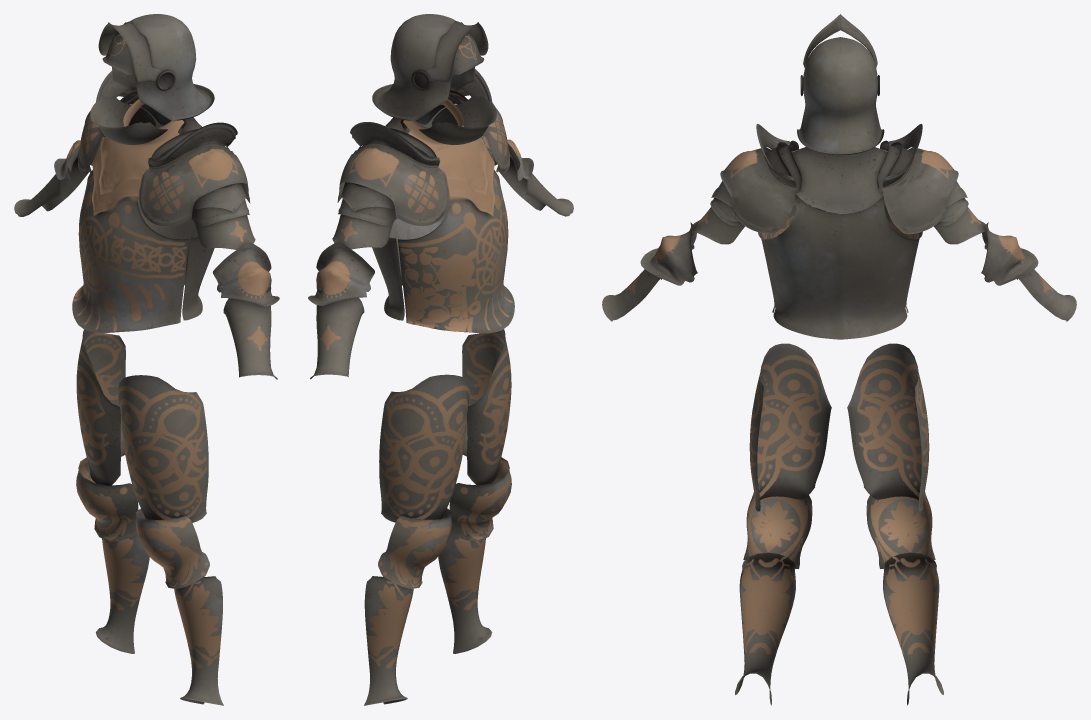
File: SM_KnightArmor_VPose.fbx
3 views of the same model, side by side, from view 1: azimuth 30°, elevation 25°; view 2: azimuth 150°, elevation 25°; view 3: azimuth 270°, elevation 25° (orthographic).
Parts seen in each view (by area): view 1: SM_KnightArmor_VPose_LOD0; view 2: SM_KnightArmor_VPose_LOD0; view 3: SM_KnightArmor_VPose_LOD0.
Boxes of the visible parts, bbox=[...] form: SM_KnightArmor_VPose_LOD0: bbox=[14, 14, 279, 705]; SM_KnightArmor_VPose_LOD0: bbox=[308, 14, 573, 705]; SM_KnightArmor_VPose_LOD0: bbox=[602, 14, 1076, 705].
Size of the model in its own units: 45.48 by 147 by 226.
Materials: 1 (1 with a texture image).
